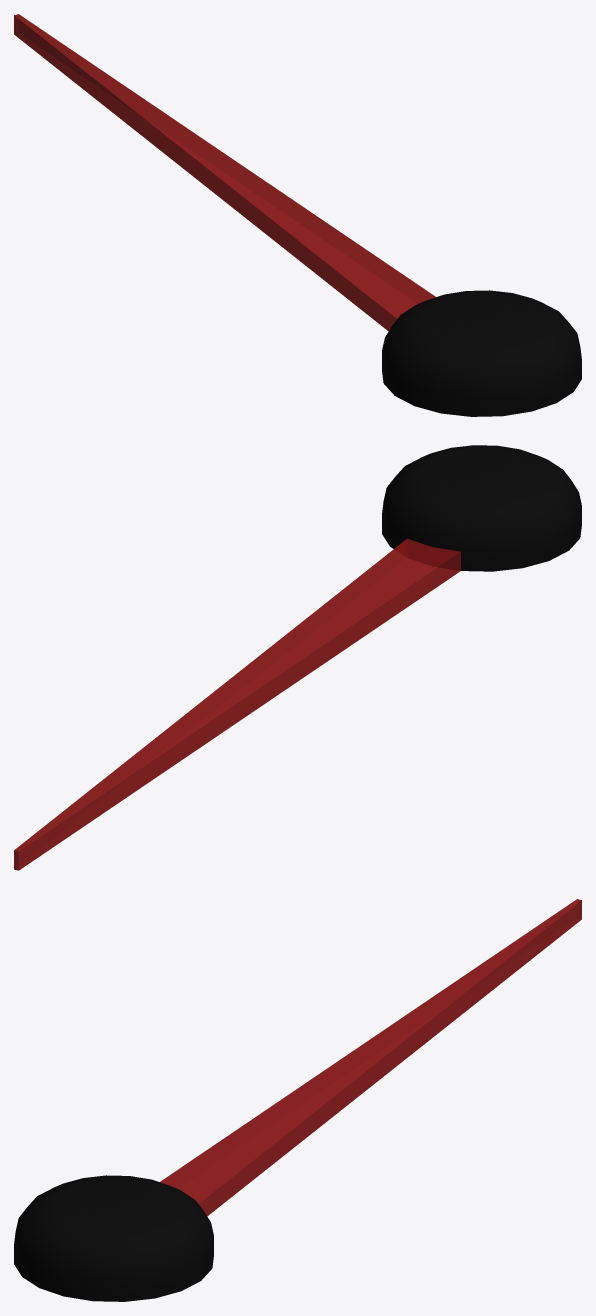
File: needle_11.dae
3 views of the same model, one above another, from view 1: azimuth 30°, elevation 25°; view 2: azimuth 150°, elevation 25°; view 3: azimuth 330°, elevation 25° (orthographic).
Visible parts, largest first — view 1: qt_gauge_needles_11; view 2: qt_gauge_needles_11; view 3: qt_gauge_needles_11.
Boxes of the visible parts, x1,y1,x2,y2 form: qt_gauge_needles_11: [14, 14, 581, 416]; qt_gauge_needles_11: [14, 445, 581, 870]; qt_gauge_needles_11: [14, 899, 581, 1301].
Size of the model in its own units: 2.59 by 0.782 by 13.3.
